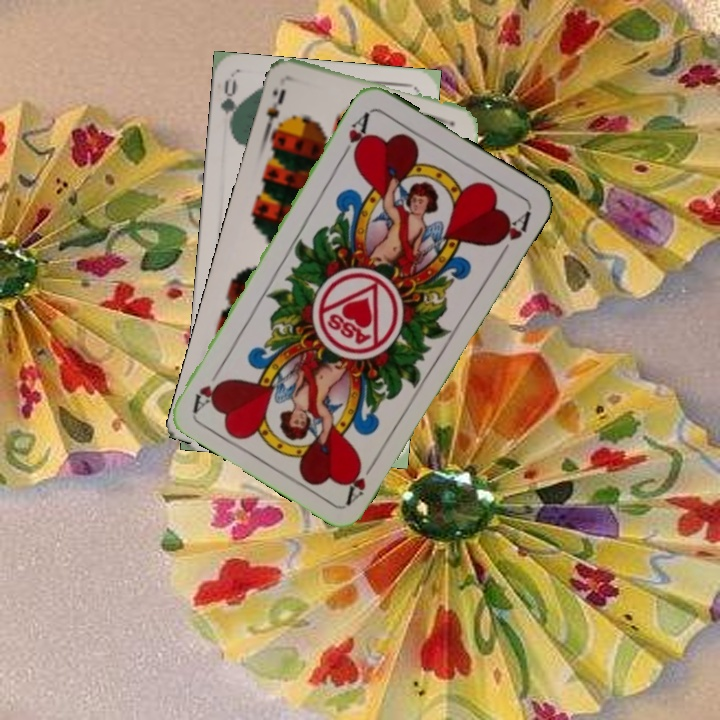GO: (216, 77, 244, 137)
HA: (341, 453, 381, 506), (337, 107, 373, 163)
S9: (261, 84, 288, 137)
